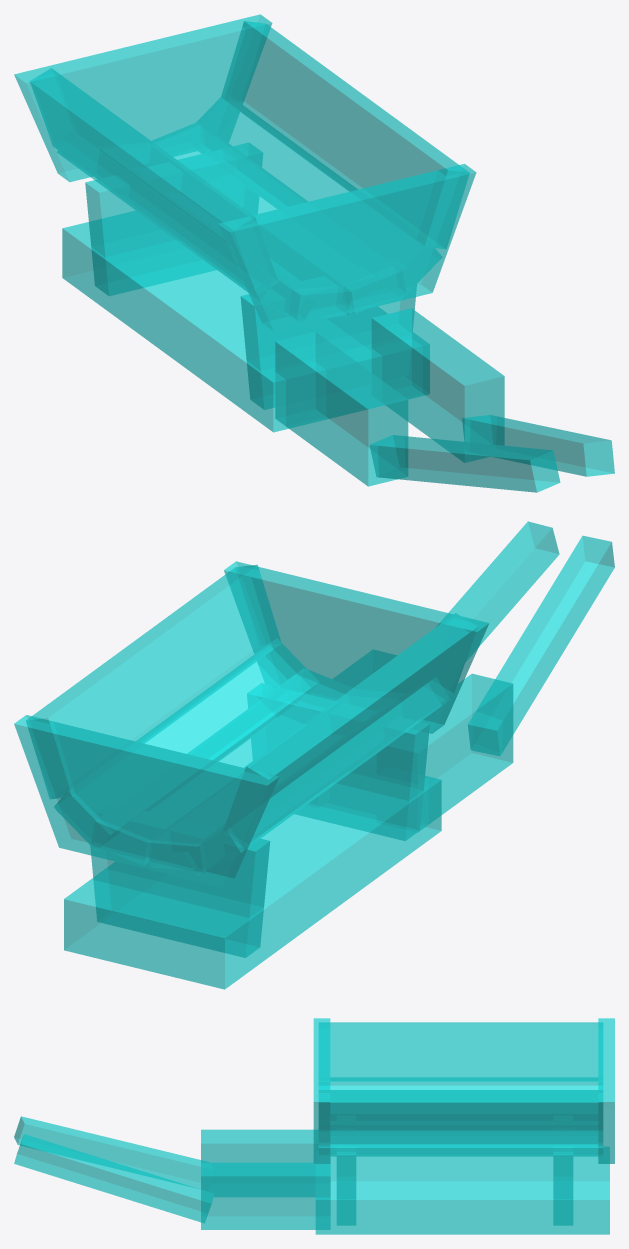
The model's file is SM_Veh_Wagon_01_Collision.fbx.
3 views of the same model, one above another, from view 1: azimuth 30°, elevation 25°; view 2: azimuth 150°, elevation 25°; view 3: azimuth 270°, elevation 25° (orthographic). The views are drawn at different scales.
Parts seen in each view (by area): view 1: SM_Veh_Wagon_01_Collision; view 2: SM_Veh_Wagon_01_Collision; view 3: SM_Veh_Wagon_01_Collision.
Part boxes in pixels (box(x1,y1,x2,y2)): SM_Veh_Wagon_01_Collision: box(14, 14, 614, 492); SM_Veh_Wagon_01_Collision: box(14, 521, 614, 989); SM_Veh_Wagon_01_Collision: box(14, 1018, 614, 1234).
Bounding box in the file's own units: 129 × 109 × 389.
